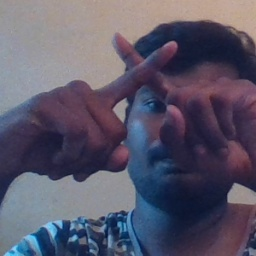X: (77, 25, 206, 157)
